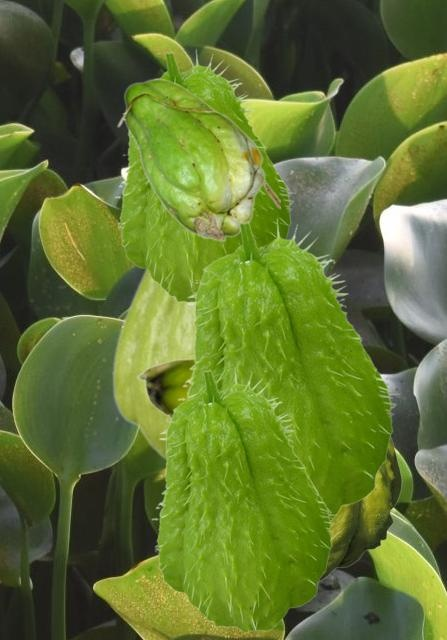sayote: (177, 217, 398, 520), (151, 366, 336, 632), (114, 48, 295, 303), (116, 78, 279, 241), (111, 270, 194, 461), (319, 437, 401, 582), (136, 358, 193, 417)
